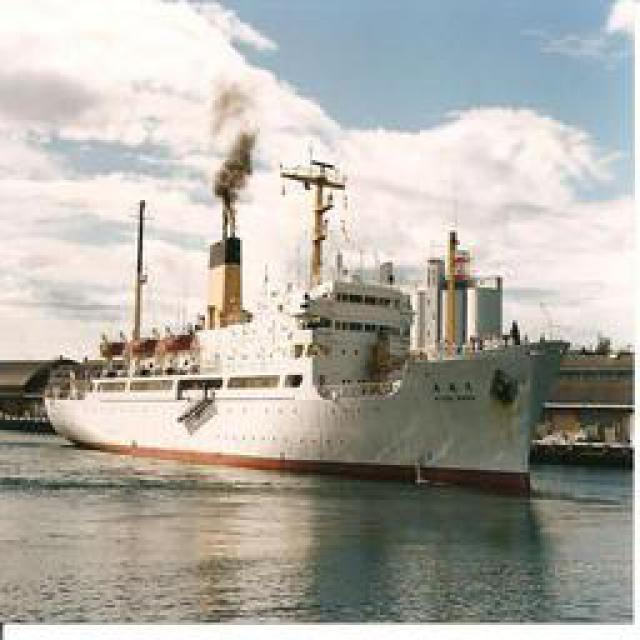Ship: (40, 259, 568, 482)
